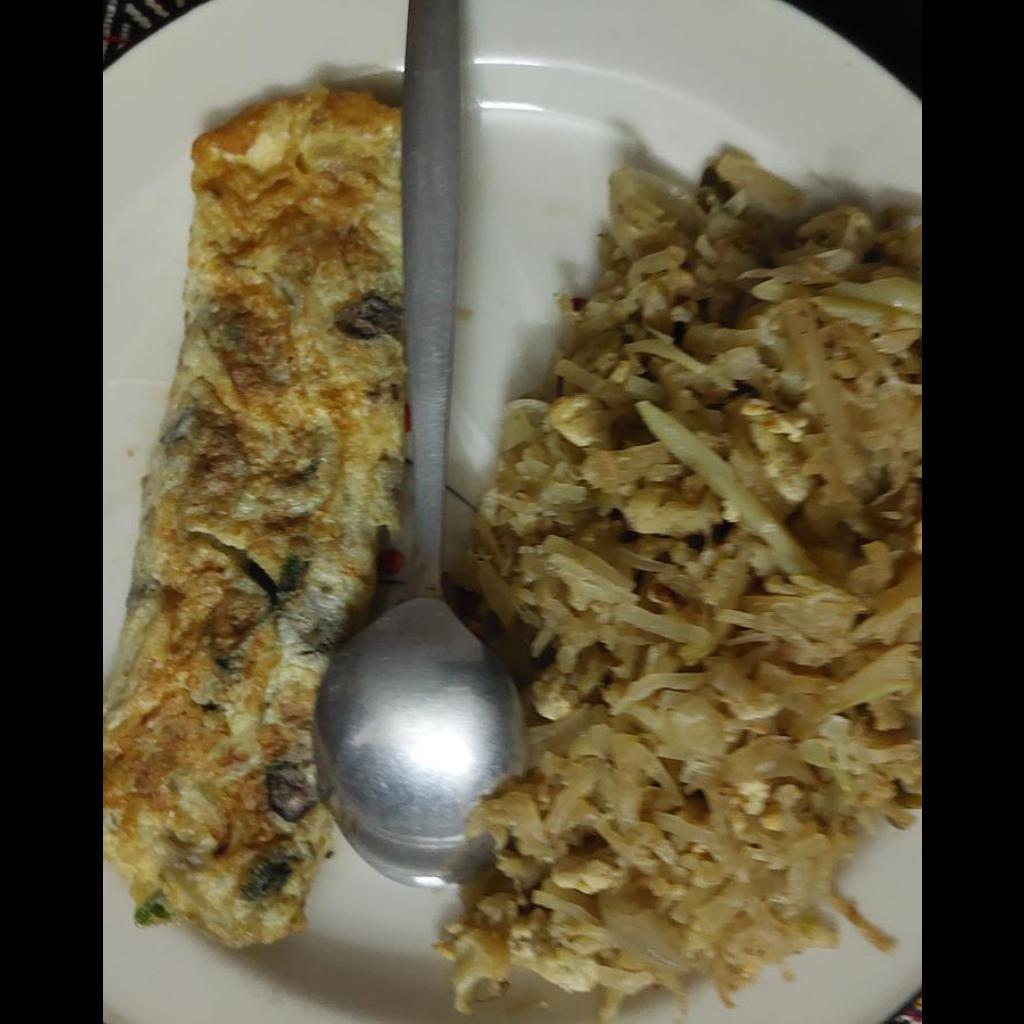egg-poached: (102, 83, 406, 951)
vaji: (443, 145, 920, 1004)
